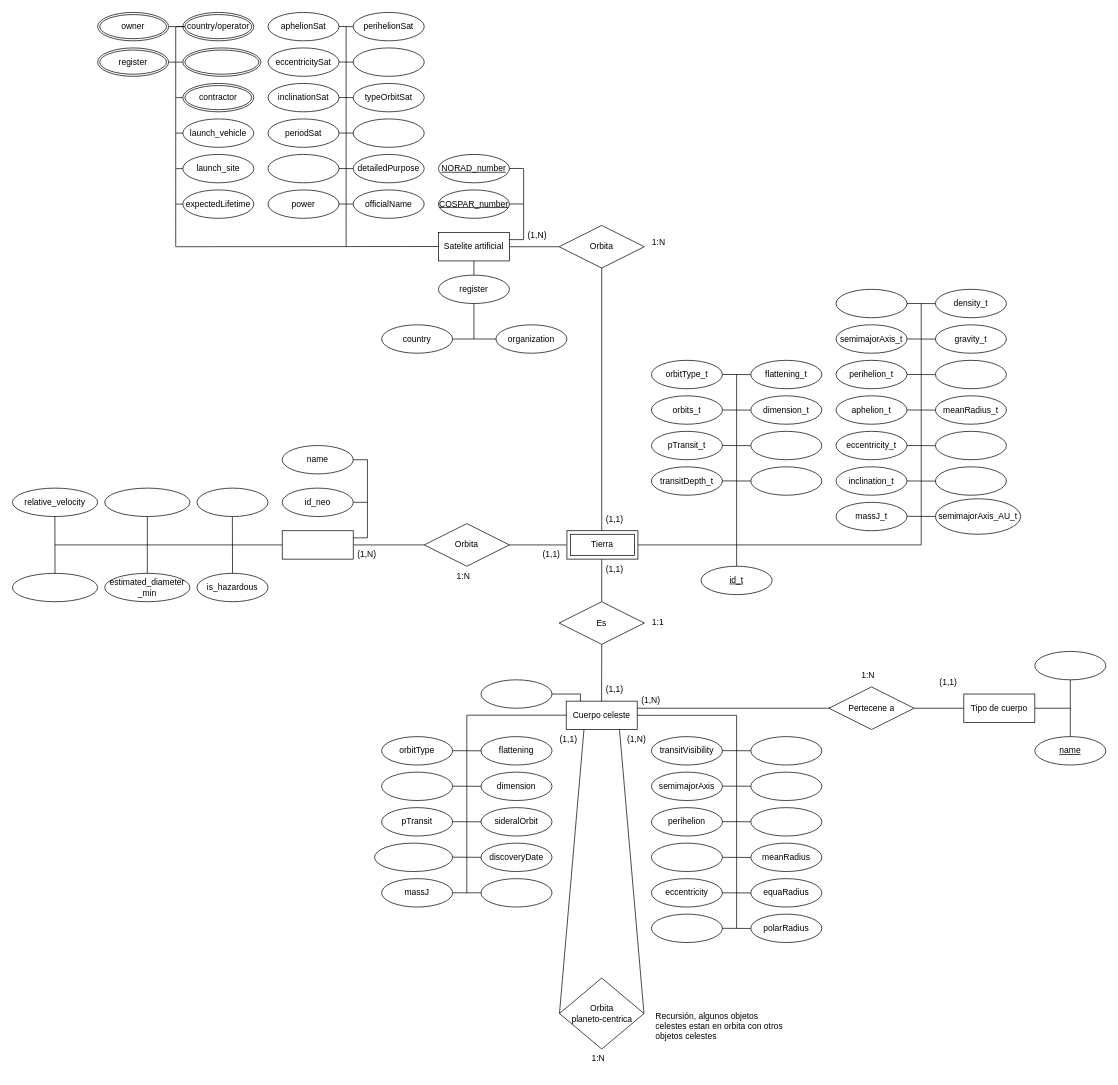
Image size: 1118x1085. Some labels were removed from this diagram. The box of each missing label's shape, as (x1, y1, x2, y2) in pixels:
absolute_magnitude: (104, 487, 190, 517)
aphelion: (651, 842, 722, 872)
contractor_country: (182, 47, 261, 76)
density: (750, 736, 822, 765)
discoveryDate_t: (750, 466, 822, 495)
drymass: (267, 154, 339, 183)
equaRadius_t: (935, 431, 1006, 460)
escape: (750, 807, 822, 836)
escape_t: (935, 360, 1006, 389)
estimated_diameter _max: (12, 573, 98, 602)
gravity: (750, 771, 822, 801)
id_cl: (480, 679, 552, 708)
inclination: (651, 913, 722, 943)
longitudeGEO: (353, 47, 424, 76)
miss_distance: (196, 487, 268, 517)
Neo: (282, 530, 353, 559)
orbits: (381, 771, 453, 801)
orbitSat: (353, 118, 424, 147)
polarRadius_t: (935, 466, 1006, 495)
semimajorAxis_AU: (374, 842, 453, 872)
sideralOrbit_t: (750, 431, 822, 460)
transitDepth: (480, 878, 552, 907)
transitVisibility_t: (835, 289, 907, 318)
type: (1034, 651, 1106, 680)
